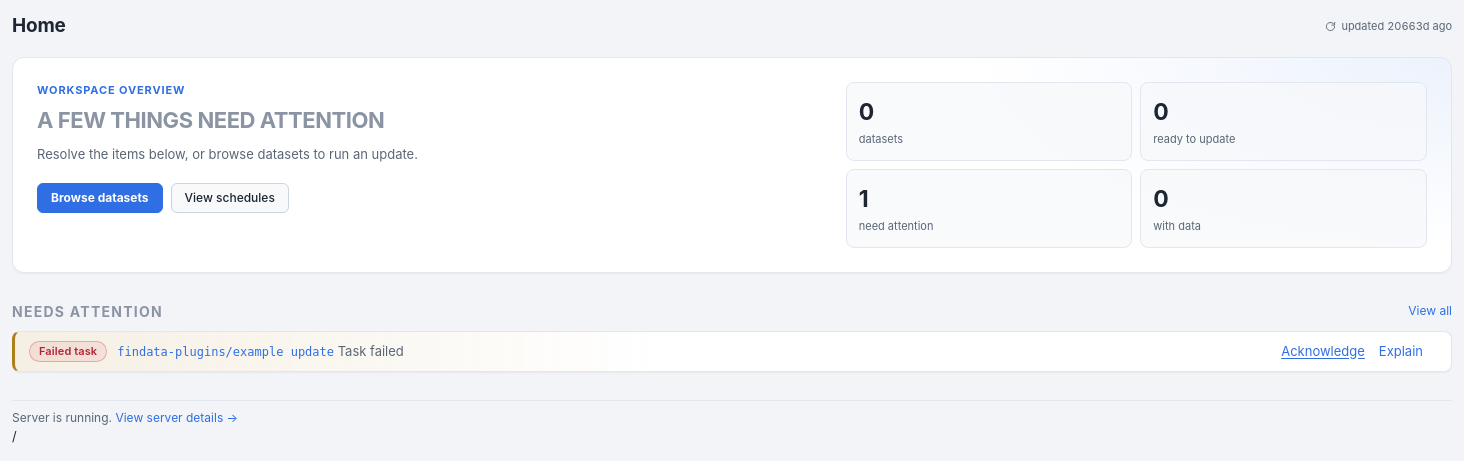
Scenario: HomePage › opens task details when a failed-task row is clicked
What coordinates should you click on to do the following:
click the link "Failed task"
I would click on:
 (732, 351)
Its box is left=12, top=330, right=1452, bottom=372.
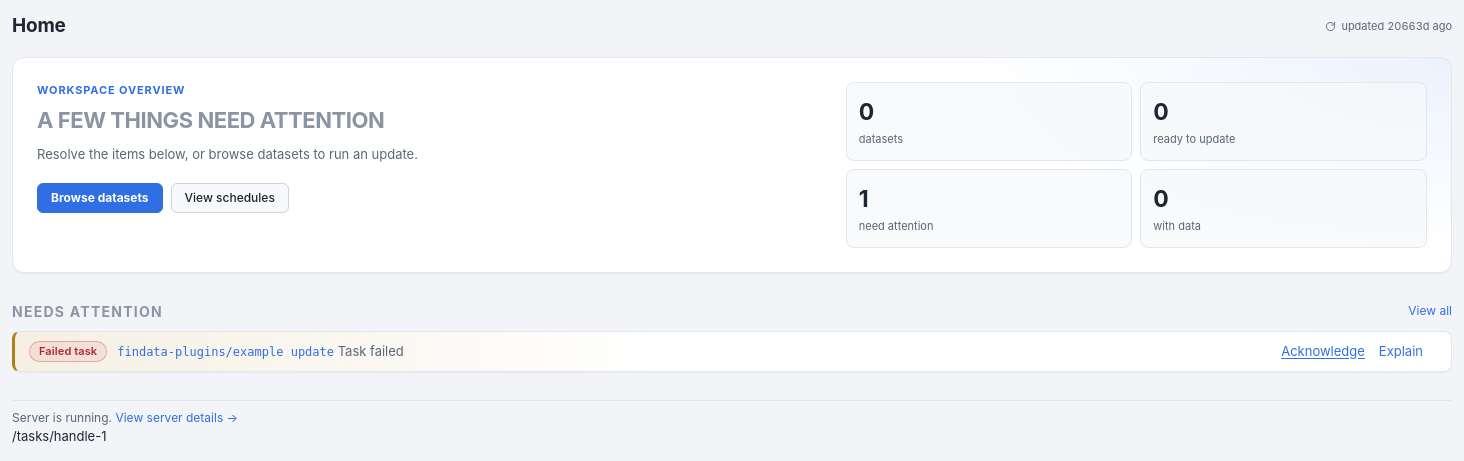
Now the text "/tasks/handle-1" is shown, box left=12, top=428, right=106, bottom=444
